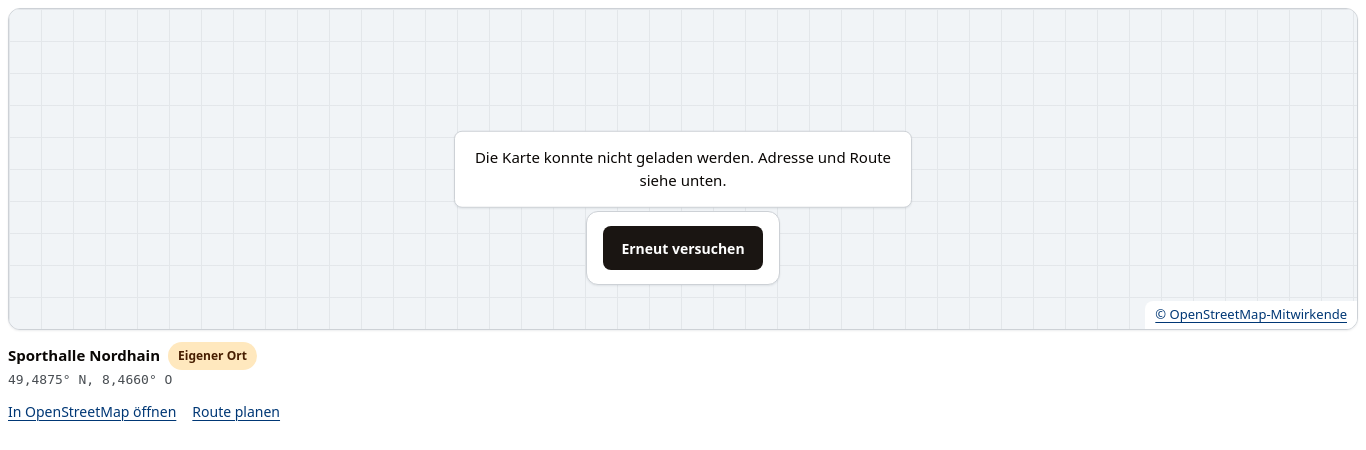
Karte · Svelte › Fehlerfall › nach einem Ladefehler bietet der Platzhalter „Erneut versuchen“ an; ein Klick baut die Karte neu auf, die Statuszeile bleibt role=status
Expected: the message "Die Karte konnte nicht geladen werden. Adresse und Route siehe unten." is shown, [454,131,912,207]
Click the button with class "hoops-map-retry" at (683, 248), box [603,226,763,270]
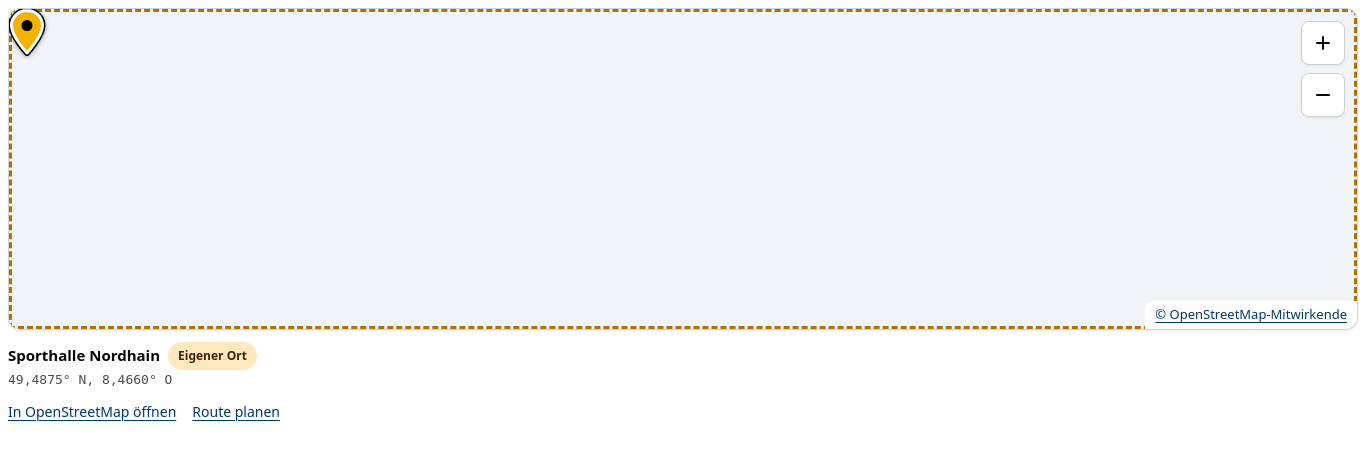
Expected: the button with class "hoops-map-retry" is gone
